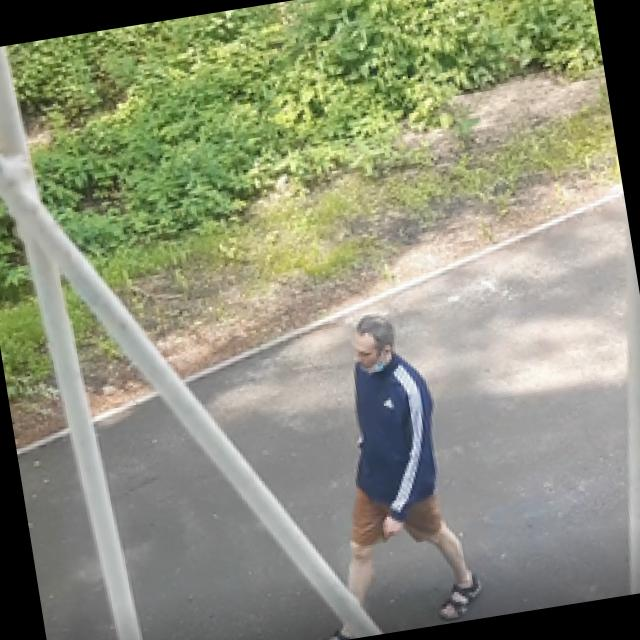person: (271, 303, 486, 640)
